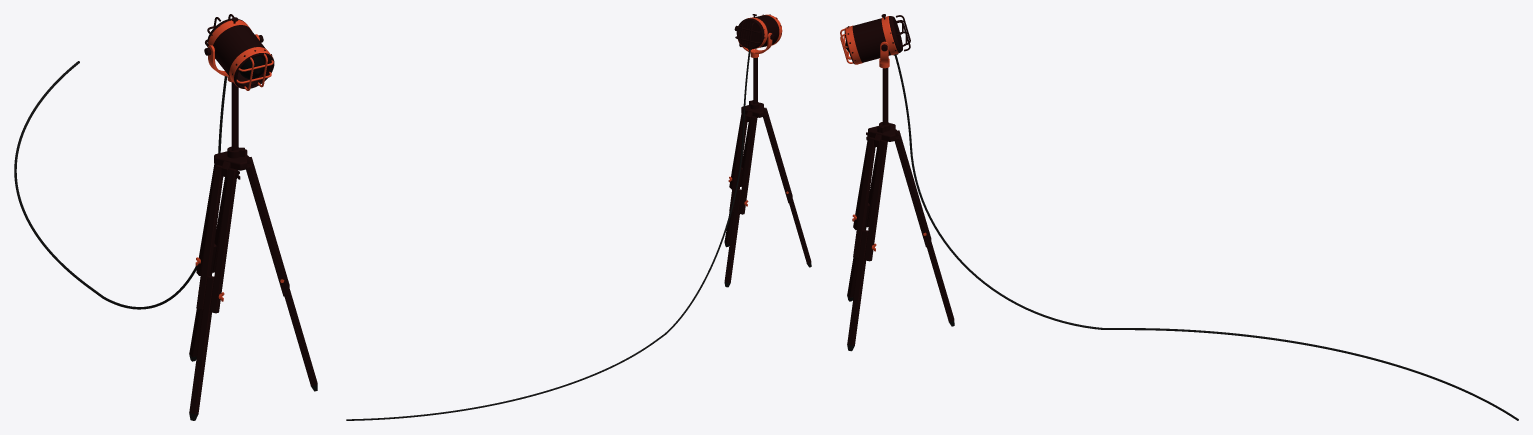
Rendered from lamp.fbx.
3 views of the same model, side by side, from view 1: azimuth 30°, elevation 25°; view 2: azimuth 150°, elevation 25°; view 3: azimuth 270°, elevation 25° (orthographic). The views are drawn at different scales.
Visible parts, largest first — view 1: Component#1 [77238] (×3), Component#2 [36566] (×3), Component#1 [77235] (×3), [138628], Component#29 [202140], Component#14 [184818], Component#7 [184827], Component#24 [151659], Group#52 [151680], Component#24 [151662]; view 2: Component#29 [202140], Component#1 [77238] (×2), [138628], Component#1 [77235], Component#2 [36566]; view 3: Component#29 [202140], Component#1 [77238] (×2), [138628], Component#1 [77235], Component#2 [36566].
Part boxes in pixels (<box>): Component#1 [77238] (×3): <box>196,163,289,309</box>; Component#2 [36566] (×3): <box>189,243,317,414</box>; Component#1 [77235] (×3): <box>196,157,289,313</box>; [138628]: <box>207,18,274,88</box>; Component#29 [202140]: <box>14,61,227,309</box>; Component#14 [184818]: <box>231,82,238,170</box>; Component#7 [184827]: <box>214,149,252,170</box>; Component#24 [151659]: <box>229,47,273,86</box>; Group#52 [151680]: <box>239,56,265,78</box>; Component#24 [151662]: <box>208,20,251,58</box>; Component#29 [202140]: <box>346,49,751,420</box>; Component#1 [77238] (×2): <box>729,113,792,212</box>; [138628]: <box>736,15,779,48</box>; Component#1 [77235]: <box>738,116,757,214</box>; Component#2 [36566]: <box>724,189,741,282</box>; Component#29 [202140]: <box>893,54,1518,420</box>; Component#1 [77238] (×2): <box>853,136,931,258</box>; [138628]: <box>844,16,902,64</box>; Component#1 [77235]: <box>864,140,887,261</box>; Component#2 [36566]: <box>847,230,867,345</box>.
Size of the model in its own units: 31.38 by 39.2 by 76.52.
